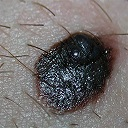Melanoma: (35, 31, 111, 112)
